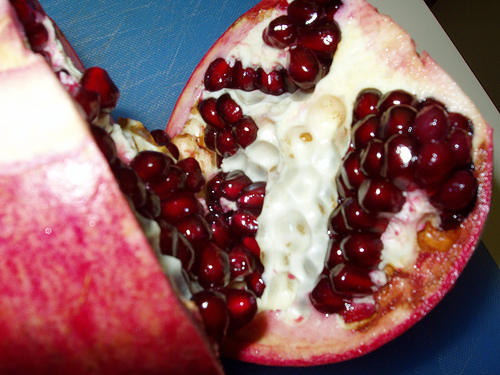pomogranate: (0, 0, 494, 374)
